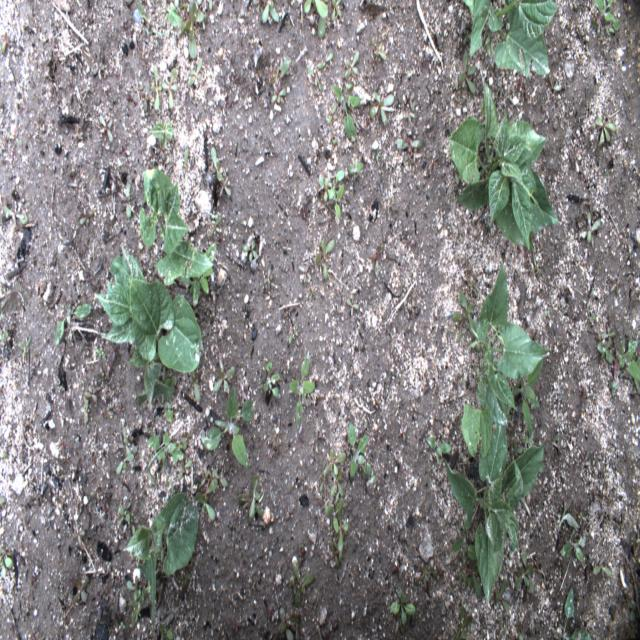crop: (448, 84, 558, 267), (443, 426, 547, 606), (459, 267, 548, 460), (97, 248, 202, 408), (121, 494, 200, 634), (137, 169, 211, 284), (461, 0, 560, 79), (145, 120, 176, 148)
weed: (204, 383, 256, 470), (288, 357, 316, 431), (513, 370, 542, 438), (49, 306, 92, 346), (288, 548, 318, 605), (191, 250, 219, 308), (333, 86, 360, 145), (177, 6, 206, 60), (611, 342, 640, 396), (346, 421, 370, 485), (561, 588, 591, 639), (149, 427, 188, 466), (238, 473, 265, 523), (455, 554, 481, 600), (389, 587, 416, 628), (456, 49, 479, 95), (451, 513, 476, 555), (454, 293, 476, 338), (452, 606, 480, 640), (368, 92, 396, 125), (262, 357, 282, 401), (594, 0, 619, 35), (557, 538, 588, 566), (426, 435, 452, 468), (316, 236, 334, 282), (132, 6, 161, 34), (396, 136, 424, 165), (206, 466, 230, 499), (187, 58, 209, 92), (323, 446, 347, 477), (491, 578, 511, 614), (325, 498, 344, 535), (164, 68, 181, 109), (71, 574, 92, 606), (592, 117, 616, 145), (212, 363, 233, 394), (305, 62, 325, 92), (99, 111, 118, 142), (197, 491, 216, 522), (558, 499, 578, 528), (586, 208, 604, 240), (317, 172, 336, 202), (186, 373, 203, 406), (403, 90, 419, 124), (277, 612, 297, 638), (343, 52, 362, 79), (302, 0, 330, 18), (122, 173, 132, 223), (514, 563, 534, 588), (329, 472, 345, 503), (508, 427, 524, 458), (242, 239, 260, 266), (2, 204, 24, 226), (1, 27, 16, 59), (594, 340, 612, 366), (206, 215, 224, 240), (371, 38, 389, 63), (165, 0, 182, 26), (268, 84, 288, 106), (116, 501, 132, 528), (417, 564, 434, 589), (115, 453, 136, 473), (82, 382, 100, 405), (211, 148, 223, 182), (334, 185, 345, 222), (126, 574, 141, 601), (152, 136, 168, 161), (159, 377, 175, 402), (153, 65, 162, 109), (328, 538, 342, 566), (373, 247, 383, 286), (17, 332, 33, 356), (70, 520, 85, 545), (263, 3, 280, 25), (0, 312, 10, 349), (600, 325, 616, 348), (277, 55, 291, 81), (218, 174, 232, 200), (1, 543, 11, 579), (593, 560, 613, 578), (482, 34, 498, 56), (625, 598, 639, 623), (106, 401, 124, 420), (317, 52, 334, 72), (300, 260, 314, 284), (397, 416, 409, 444), (79, 400, 92, 425), (348, 158, 366, 176), (346, 297, 360, 320), (80, 204, 94, 227), (90, 61, 106, 81), (178, 461, 194, 481), (21, 194, 31, 225), (198, 464, 212, 486), (448, 163, 462, 185), (338, 521, 348, 551), (364, 460, 374, 490), (286, 324, 300, 345), (159, 623, 177, 639), (331, 0, 344, 21), (316, 17, 327, 40), (121, 422, 130, 450), (263, 265, 273, 290), (462, 22, 473, 44), (328, 105, 338, 129), (611, 279, 622, 299), (132, 74, 141, 98), (577, 511, 589, 528), (143, 81, 149, 113), (450, 74, 462, 90), (183, 145, 190, 168), (588, 311, 600, 324), (335, 170, 346, 184), (4, 450, 13, 464), (588, 287, 596, 301), (204, 0, 213, 12), (0, 494, 7, 506)
